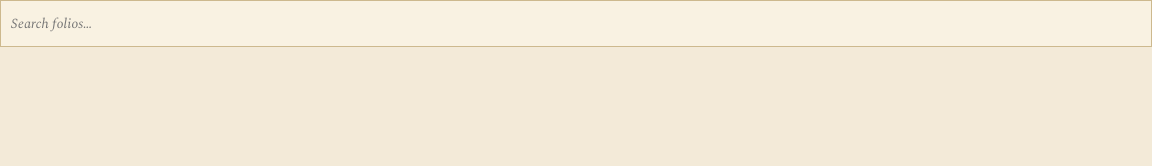
it: WikilinkListField ranking › ranks a title match above a tag match
Type "greek" into the dropdown named "Allies" at (576, 24), box [11,8,1141,39]
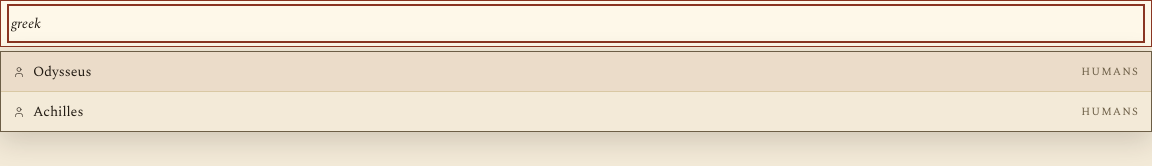
Check: the number of options is 2, box [1,52,1151,92]; [13,101,1139,122]
